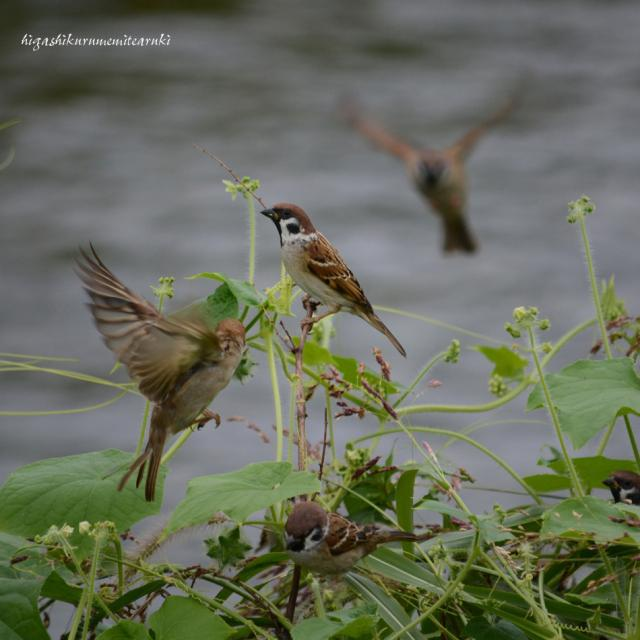bird: (68, 233, 276, 518), (339, 80, 532, 258), (243, 204, 408, 361)
